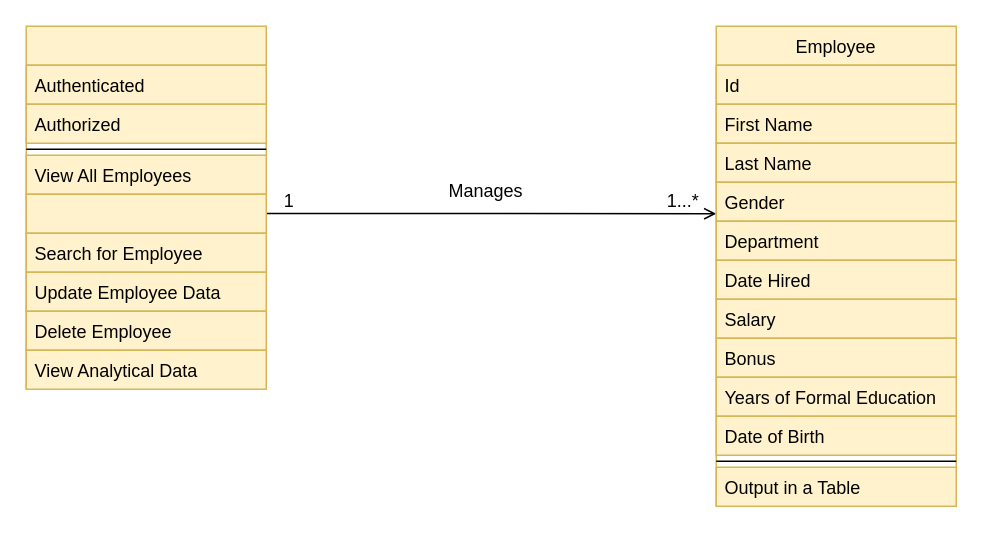
The diagram is 983 pixels wide and 537 high, and some of its shapes have lost their labels. The shapes that lost their labels are listed below. From the top down, each one's box as (x1, y1, x2, y2) in pixels, then its label:
(25, 25, 266, 389): HR Manager
(25, 193, 266, 233): Add New Employee
